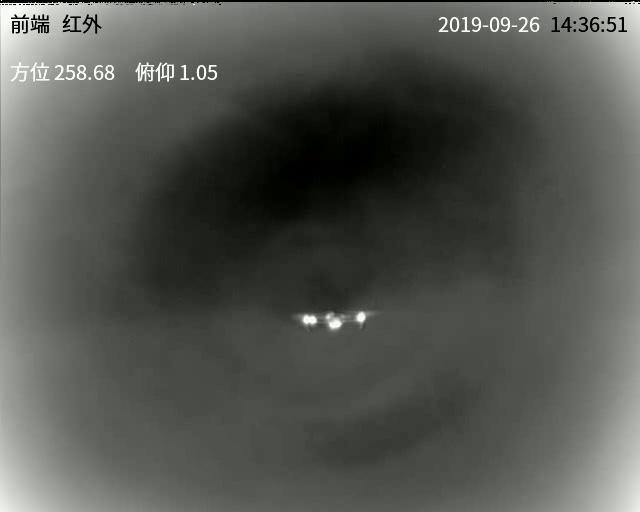DRONE: (300, 310, 368, 333)
